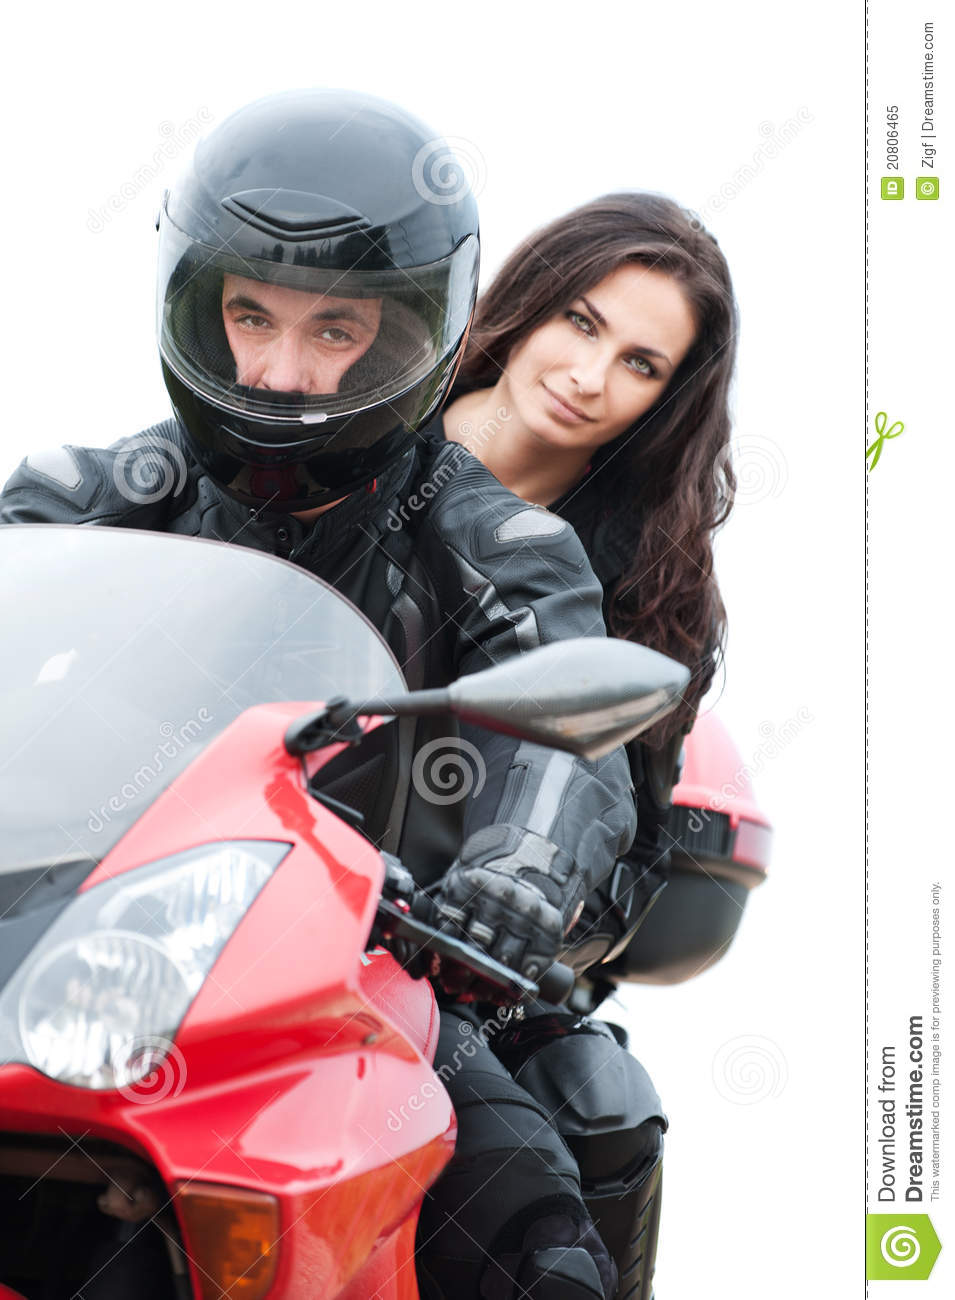helmet: (157, 93, 475, 519)
